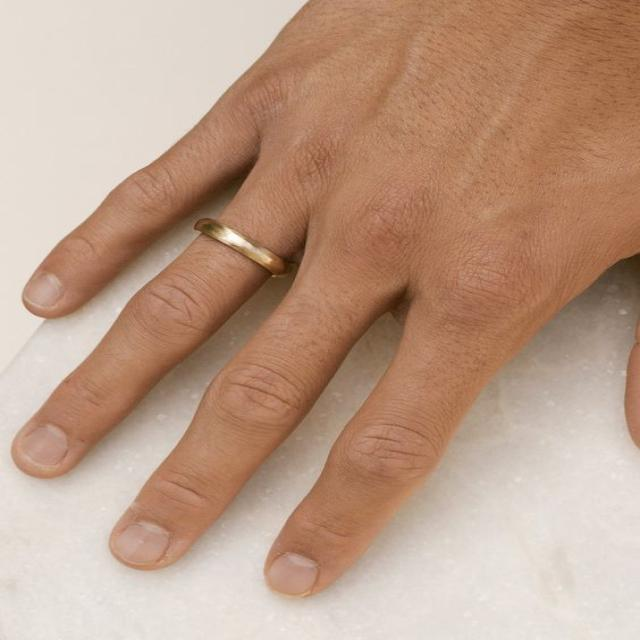Fingernail: (113, 523, 169, 565), (19, 426, 67, 467), (269, 554, 316, 595), (24, 274, 61, 307)
